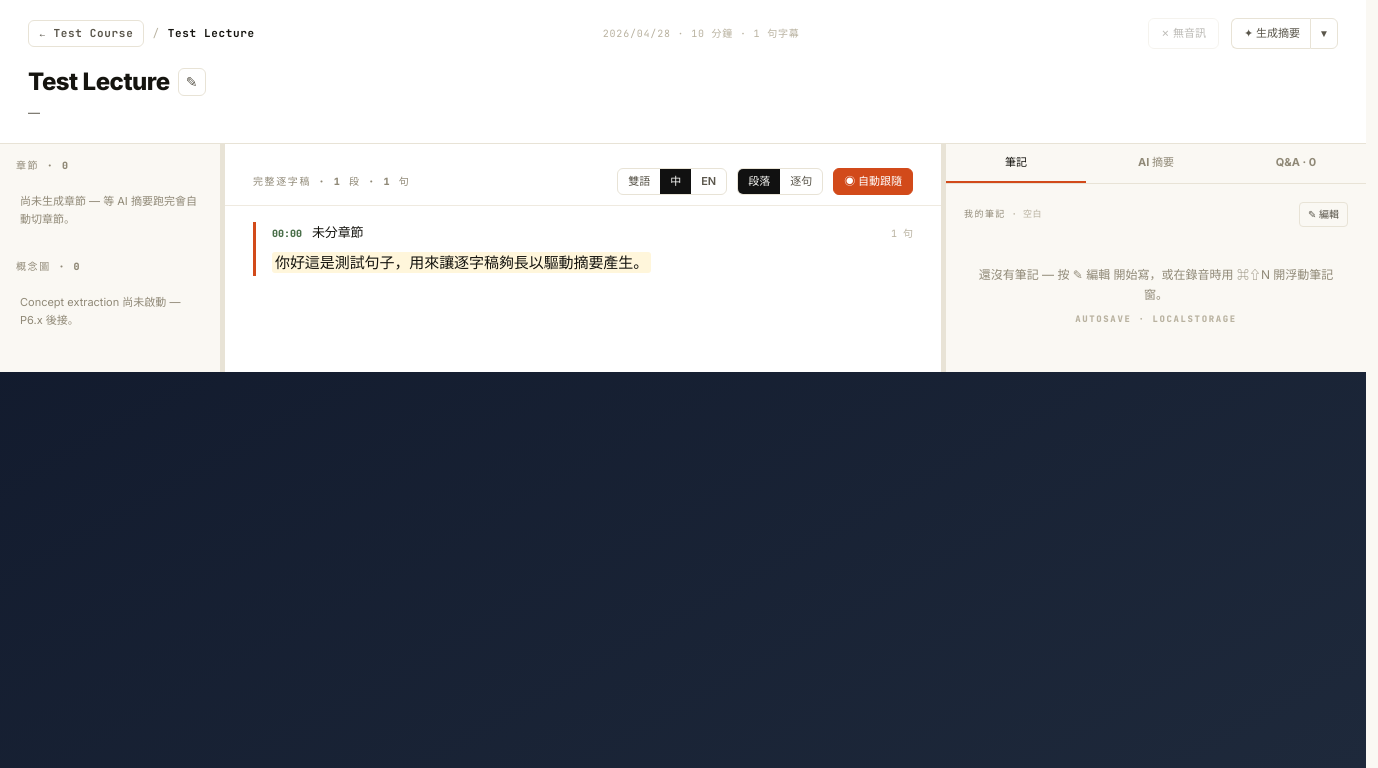
Test: H18ReviewPage · summary failed retry (S2.6) › shows error banner with retry button when task is failed
Click the button "AI 摘要" at point(1156, 163), box [1086,144,1226,183]
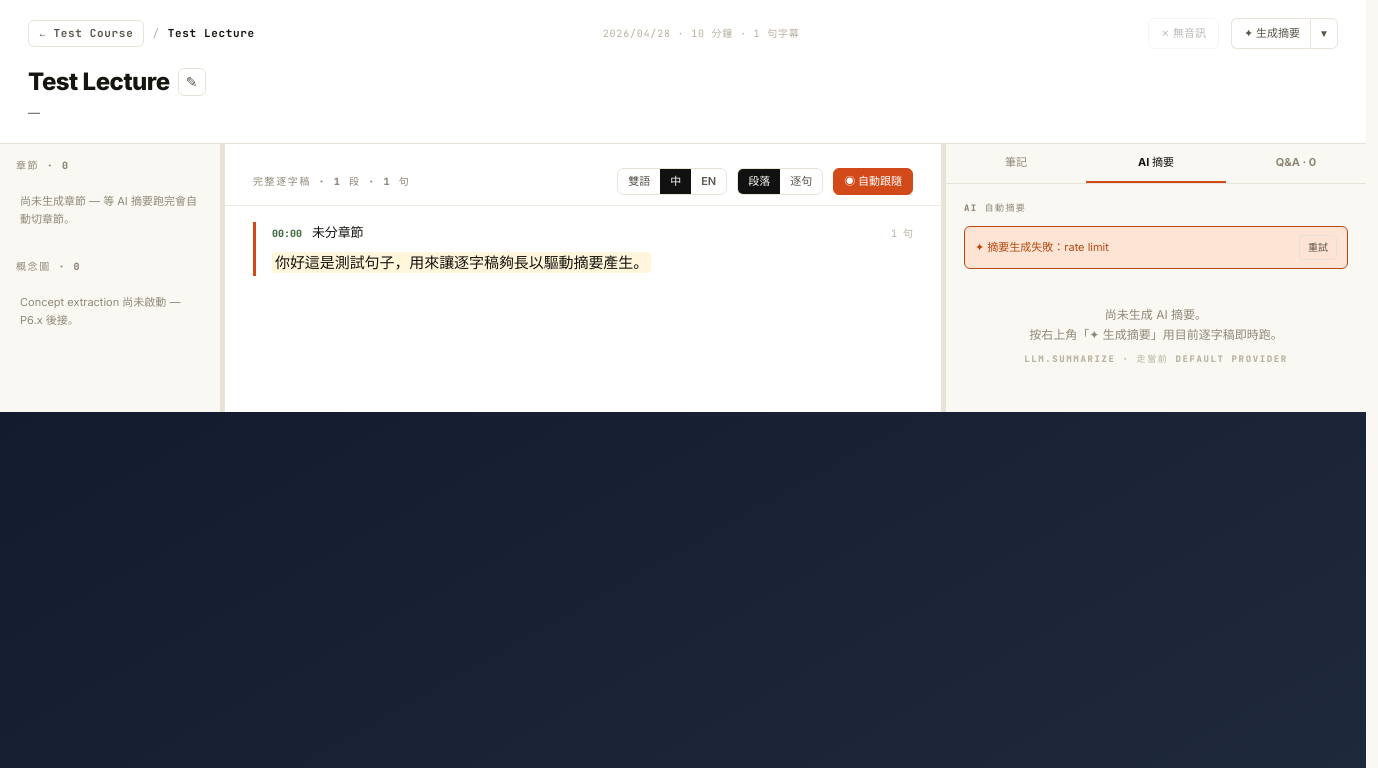
Expected: the message shows "rate limit", [1064,240,1109,254]
Expected: the button "重試" is shown, [1299,235,1337,260]
